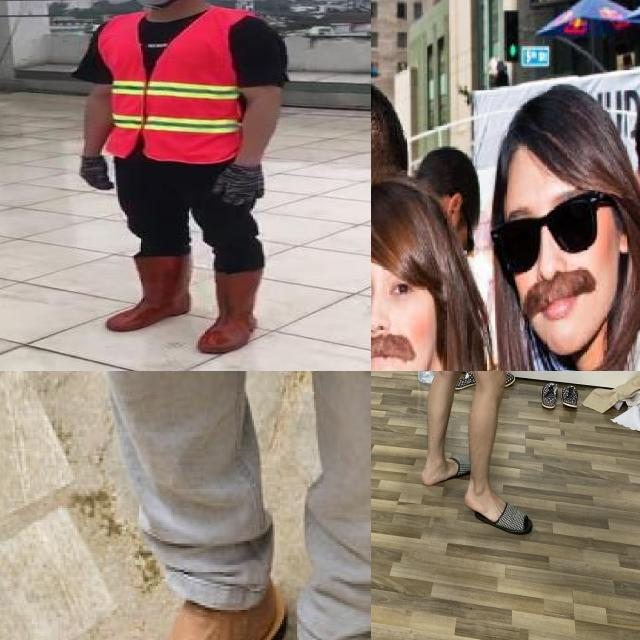Sandals: (93, 533, 289, 640), (465, 480, 537, 534), (417, 452, 469, 483)
boots: (104, 256, 194, 335), (198, 266, 267, 354)
face_nomask: (502, 188, 612, 324), (371, 266, 436, 371)
glasses: (486, 192, 608, 277)
hand_glove: (212, 161, 271, 208), (80, 157, 117, 193)
head_nohelmet: (490, 96, 614, 170), (371, 186, 441, 262), (371, 79, 406, 139)
person: (71, 0, 302, 360), (493, 80, 640, 371), (371, 178, 507, 371)
vest: (102, 7, 248, 162)
